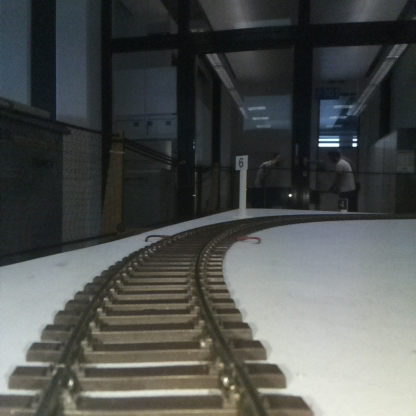black-stop-4: (337, 197, 347, 213)
white-info-6: (236, 156, 247, 219)
